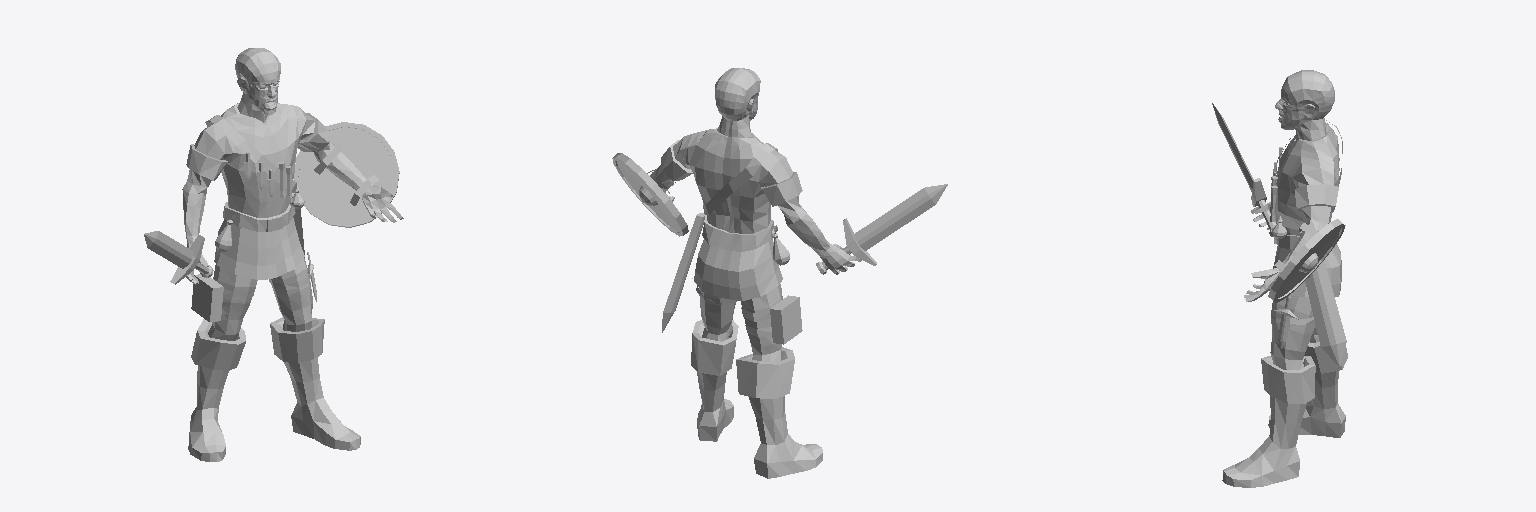
File: char_anim_000315.obj
3 views of the same model, side by side, from view 1: azimuth 30°, elevation 25°; view 2: azimuth 150°, elevation 25°; view 3: azimuth 270°, elevation 25° (orthographic).
Parts seen in each view (by area): view 1: Body.001, Shield, Sword, Funda.001_LegBag, Bandolera; view 2: Body.001, Sword, Shield, Funda.001_LegBag, Sheat, Bandolera; view 3: Body.001, Shield, Sheat, Sword, LegKnife.
Part boxes in pixels (left/top/right/bottom): Body.001: left=182, top=48, right=403, bottom=461; Shield: left=294, top=122, right=399, bottom=227; Sword: left=144, top=231, right=213, bottom=284; Funda.001_LegBag: left=191, top=274, right=255, bottom=322; Bandolera: left=205, top=115, right=296, bottom=192; Body.001: left=650, top=68, right=861, bottom=478; Sword: left=816, top=184, right=947, bottom=274; Shield: left=612, top=153, right=688, bottom=236; Funda.001_LegBag: left=741, top=295, right=802, bottom=344; Sheat: left=662, top=213, right=704, bottom=332; Bandolera: left=703, top=143, right=777, bottom=214; Body.001: left=1222, top=70, right=1347, bottom=487; Shield: left=1268, top=219, right=1345, bottom=302; Sheat: left=1305, top=261, right=1346, bottom=367; Sword: left=1212, top=103, right=1275, bottom=236; LegKnife: left=1271, top=297, right=1314, bottom=348.
Bounding box in the file's own units: 1.83 × 2.29 × 0.7394.